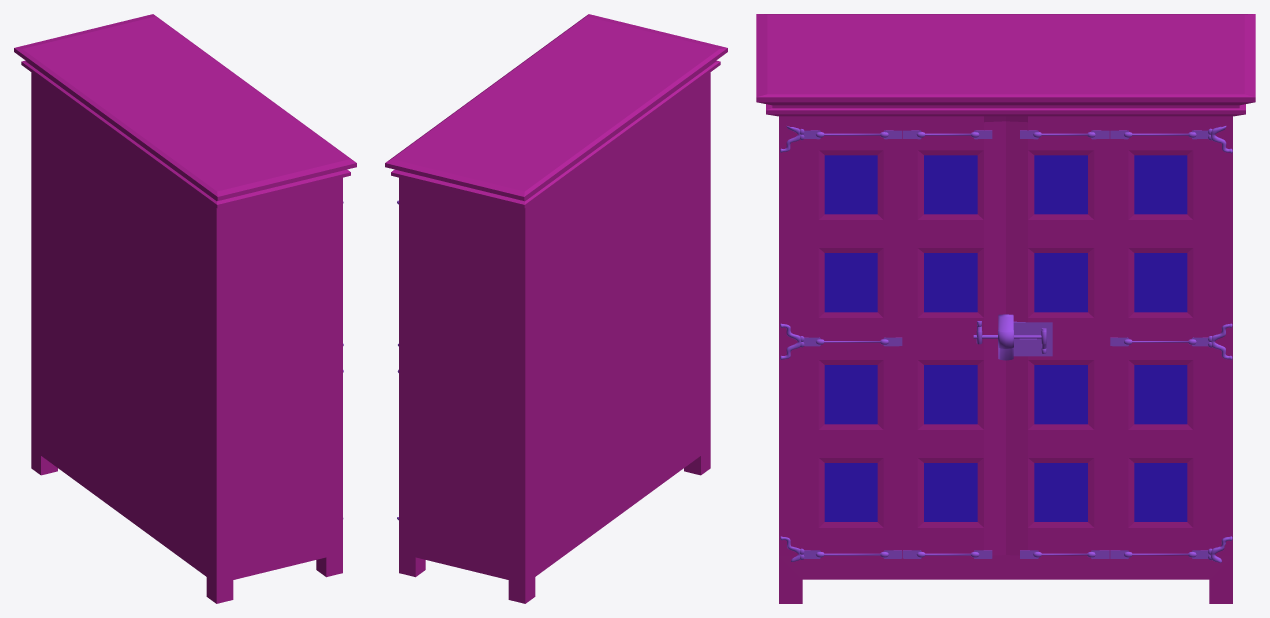
The model's file is Closet 1.fbx.
3 views of the same model, side by side, from view 1: azimuth 30°, elevation 25°; view 2: azimuth 150°, elevation 25°; view 3: azimuth 270°, elevation 25° (orthographic). The views are drawn at different scales.
Parts seen in each view (by area): view 1: Cube; view 2: Cube; view 3: Cube, Cube.031, Cylinder.
Boxes of the visible parts, left/top/right/bottom form: Cube: left=14, top=14, right=356, bottom=603; Cube: left=385, top=14, right=727, bottom=603; Cube: left=756, top=14, right=1255, bottom=603; Cube.031: left=1013, top=321, right=1052, bottom=356; Cylinder: left=998, top=314, right=1013, bottom=360.
Bounding box in the file's own units: 579 × 1659 × 1469.
